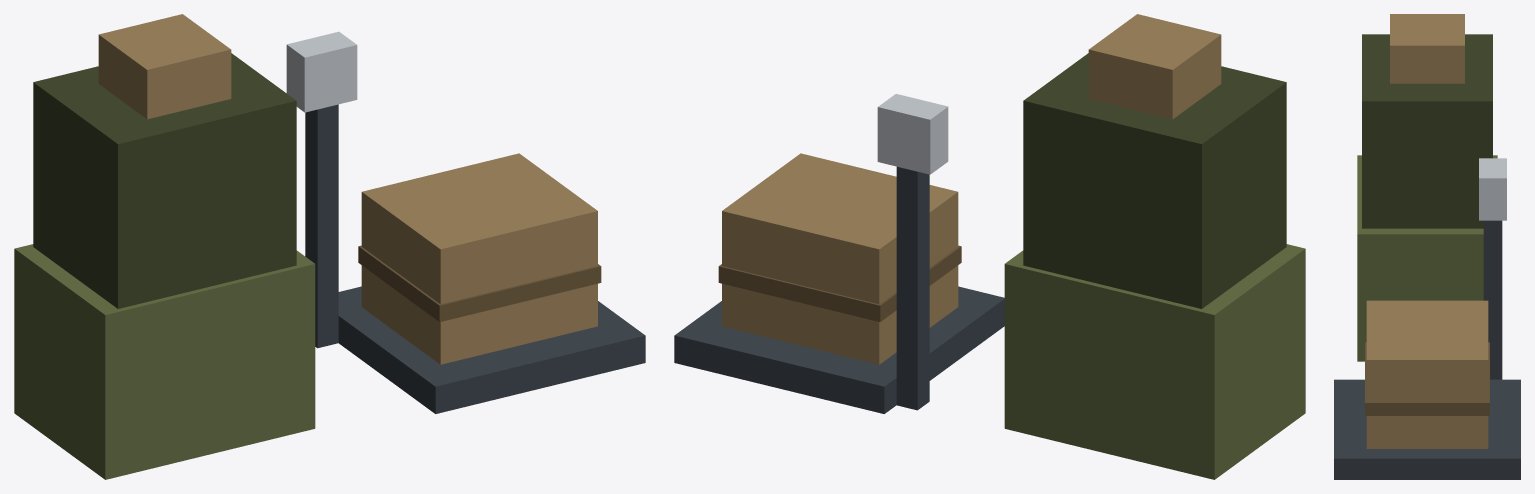
File: prop_carrier_scale_cases.fbx
The picture shows the model from 3 angles, left to right: view 1: azimuth 30°, elevation 25°; view 2: azimuth 150°, elevation 25°; view 3: azimuth 270°, elevation 25°; orthographic projection. The views are drawn at different scales.
Visible parts, largest first — view 1: prop_carrier_scale_cases; view 2: prop_carrier_scale_cases; view 3: prop_carrier_scale_cases.
Boxes of the visible parts, bbox=[...] form: prop_carrier_scale_cases: bbox=[14, 14, 645, 479]; prop_carrier_scale_cases: bbox=[674, 14, 1305, 479]; prop_carrier_scale_cases: bbox=[1334, 14, 1520, 479].
Size of the model in its own units: 1000 by 690 by 400.
